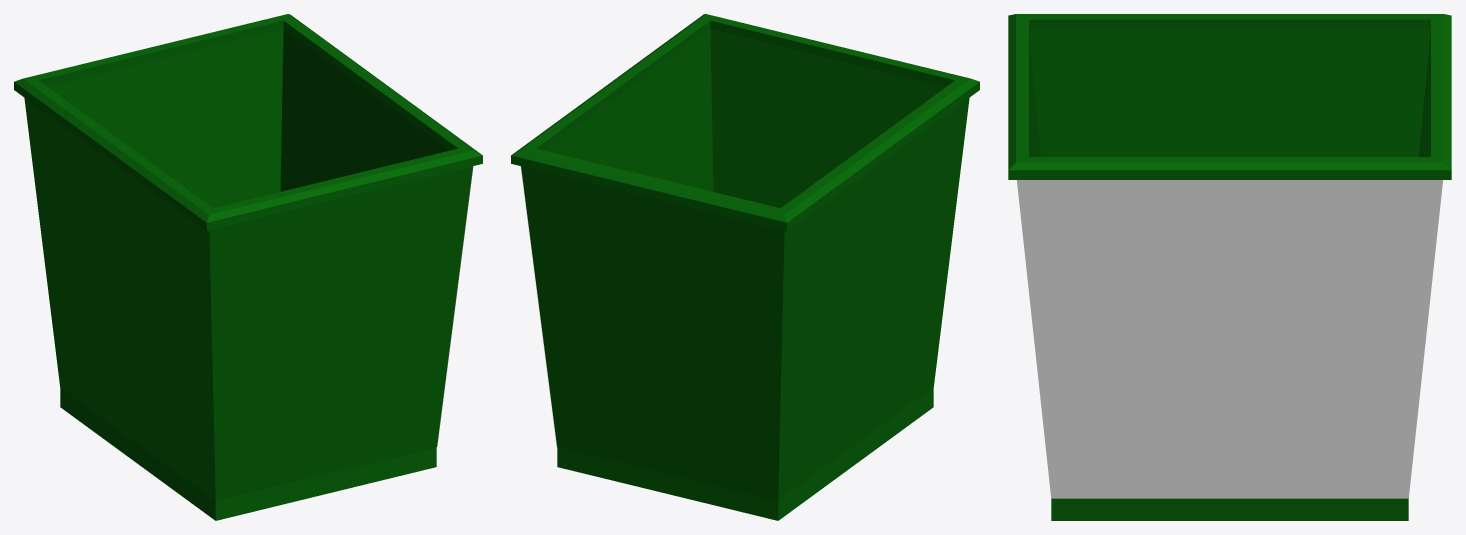
Rendered from Small_Trash_Can_new.fbx.
3 renders of one model, left to right at view 1: azimuth 30°, elevation 25°; view 2: azimuth 150°, elevation 25°; view 3: azimuth 270°, elevation 25°, orthographic. The views are drawn at different scales.
Visible parts, largest first — view 1: Cube; view 2: Cube; view 3: Cube.
Part boxes in pixels (box(x1,y1,x2,y2)): Cube: box(14, 14, 482, 520); Cube: box(511, 14, 979, 520); Cube: box(1008, 14, 1451, 520).
Bounding box in the file's own units: 270 × 301 × 327.
Materials: 1 (1 with a texture image).
